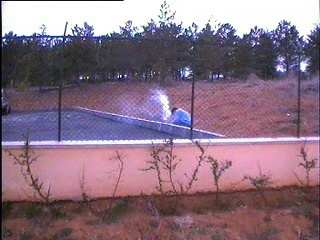smoke: (144, 84, 172, 121)
